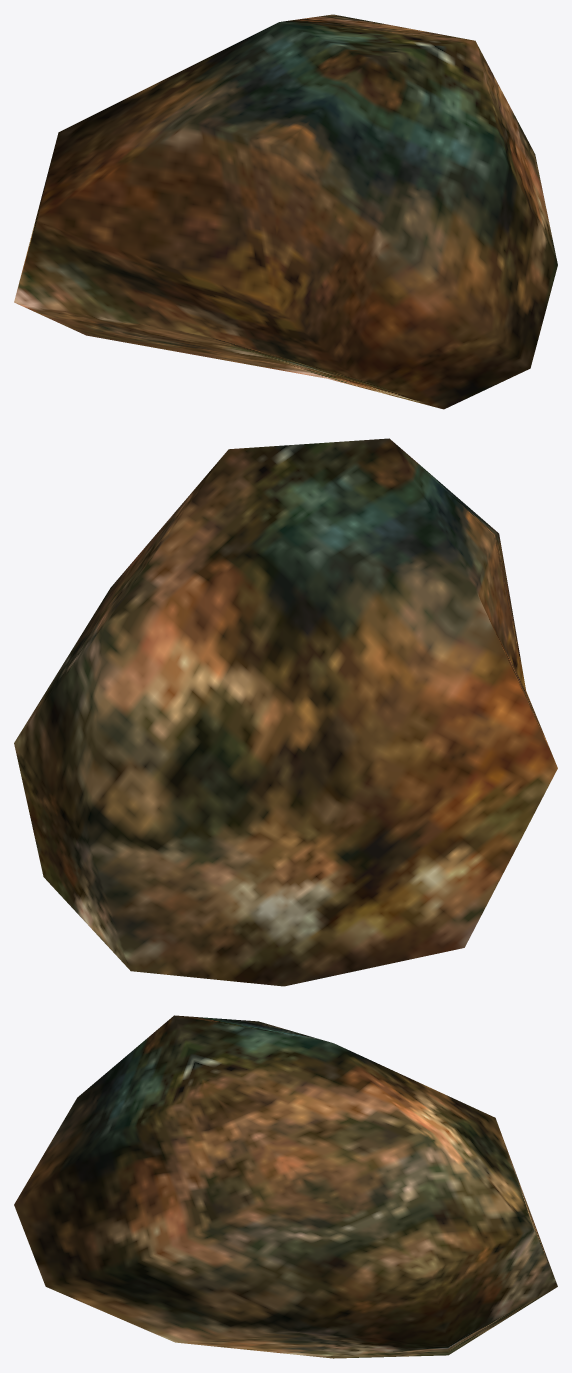
Rendered from c_stone15.glb.
3 views of the same model, one above another, from view 1: azimuth 30°, elevation 25°; view 2: azimuth 150°, elevation 25°; view 3: azimuth 270°, elevation 25° (orthographic). The views are drawn at different scales.
Parts seen in each view (by area): view 1: c_stone15; view 2: c_stone15; view 3: c_stone15.
Part boxes in pixels (bbox=[...]): c_stone15: bbox=[14, 14, 557, 409]; c_stone15: bbox=[14, 438, 557, 986]; c_stone15: bbox=[14, 1015, 557, 1358].
Size of the model in its own units: 0.2915 by 0.2291 by 0.3742.
Materials: 1 (1 with a texture image).
